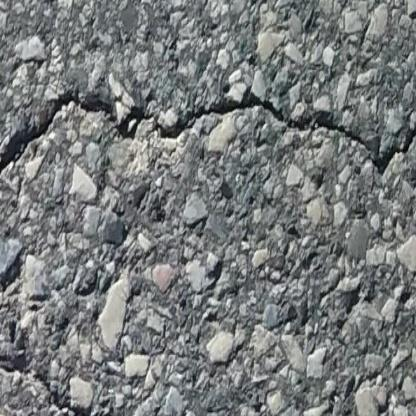Cracks: (0, 89, 416, 225), (0, 246, 123, 416)
